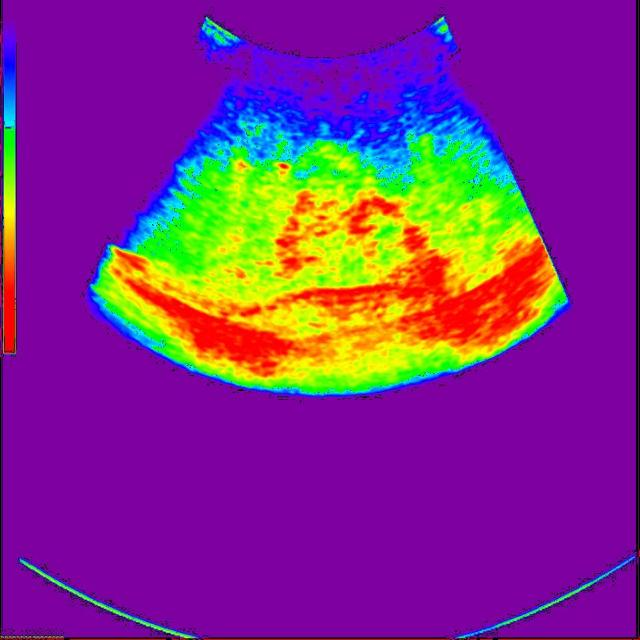lamb muscle pre: (274, 179, 437, 284)
